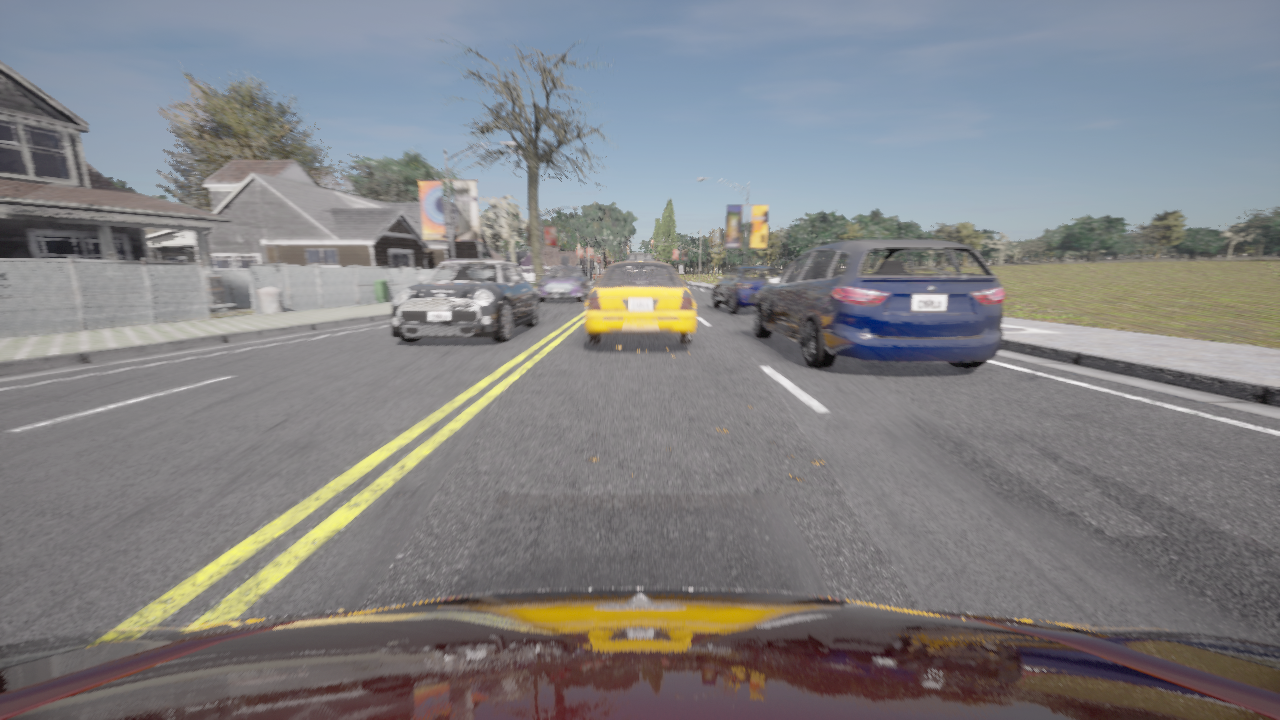cyclist: (0, 588, 1279, 719), (753, 238, 1004, 367), (390, 260, 537, 342), (585, 254, 695, 343), (711, 265, 779, 314), (537, 265, 588, 302)
